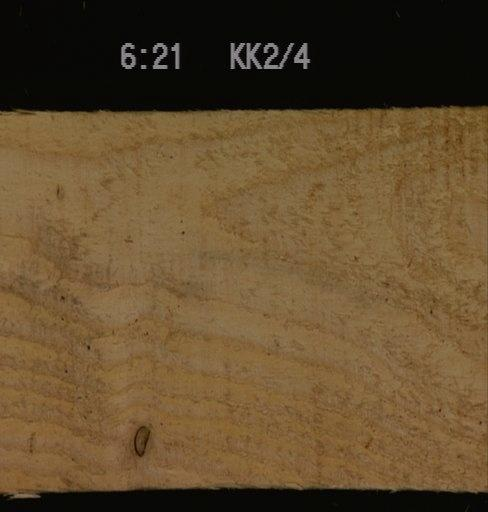dry_knot: (132, 423, 151, 458)
